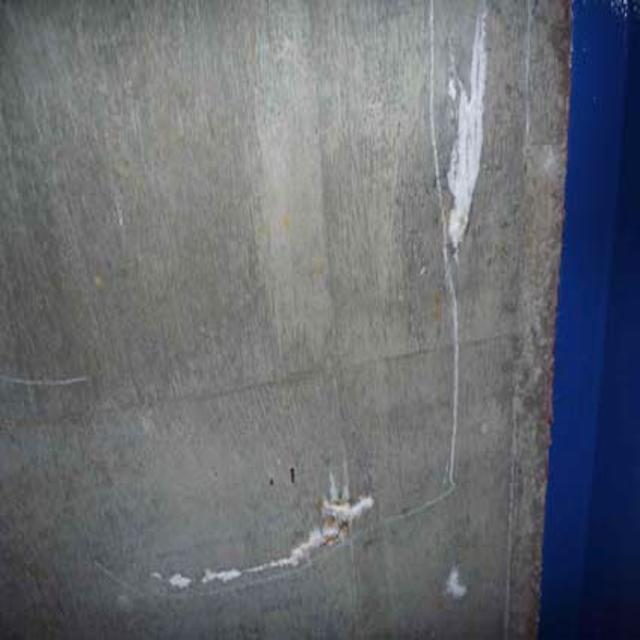freelime: (163, 500, 378, 589), (448, 14, 493, 259)
